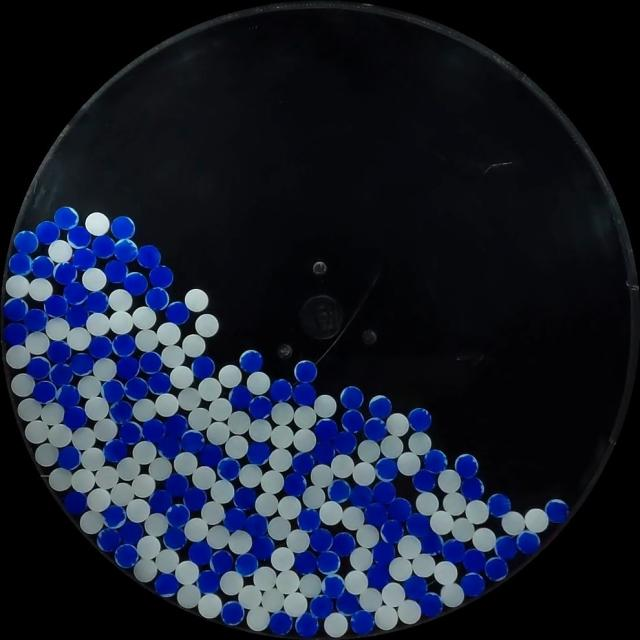pmmma-blanca: (350, 521, 381, 550), (205, 420, 232, 447), (347, 546, 375, 572), (207, 525, 234, 551), (10, 372, 36, 398), (186, 406, 212, 432), (154, 547, 180, 573), (256, 494, 282, 520), (46, 423, 73, 448), (388, 556, 415, 581), (130, 399, 158, 423), (207, 397, 235, 421), (266, 424, 294, 448), (177, 581, 201, 609), (197, 593, 222, 619), (70, 468, 96, 493), (191, 465, 217, 490), (471, 526, 496, 552), (181, 333, 207, 358), (5, 345, 31, 370), (24, 419, 50, 444), (442, 492, 468, 517), (146, 457, 173, 481), (339, 505, 363, 532), (227, 410, 252, 435), (259, 469, 284, 494), (429, 510, 454, 535), (464, 499, 489, 524), (275, 569, 300, 594), (5, 274, 30, 299), (200, 500, 225, 525), (144, 512, 169, 537), (136, 535, 160, 561), (219, 570, 243, 596), (184, 288, 210, 312), (47, 467, 73, 491), (439, 582, 465, 606), (252, 568, 278, 592), (41, 402, 68, 425), (70, 427, 97, 450), (378, 436, 405, 459), (28, 277, 53, 301), (276, 495, 301, 519), (228, 529, 252, 554), (169, 365, 194, 389), (84, 396, 109, 420), (80, 447, 105, 471), (156, 322, 181, 346), (396, 600, 421, 624), (197, 377, 222, 401), (323, 612, 348, 636), (131, 473, 155, 498), (110, 482, 135, 506), (25, 331, 50, 355), (218, 364, 243, 388), (86, 312, 111, 336), (436, 468, 461, 492), (410, 553, 435, 577), (260, 587, 284, 612), (524, 508, 548, 533), (318, 500, 343, 524), (108, 310, 133, 334), (194, 313, 219, 337), (87, 487, 111, 512), (374, 605, 398, 630), (18, 398, 42, 423), (172, 452, 197, 476), (246, 418, 271, 442), (269, 402, 294, 426), (302, 484, 326, 509), (92, 418, 118, 441), (286, 529, 309, 555), (126, 498, 150, 522), (108, 289, 132, 313), (270, 547, 294, 571), (397, 535, 421, 559), (433, 561, 457, 585), (247, 371, 271, 395), (358, 588, 382, 612), (330, 454, 354, 478), (283, 592, 307, 616), (210, 479, 234, 503), (132, 306, 156, 330), (48, 239, 72, 263), (94, 466, 118, 490), (500, 511, 524, 535), (415, 491, 439, 515), (381, 582, 405, 606), (397, 451, 421, 475), (344, 570, 368, 594), (450, 517, 474, 541), (246, 606, 270, 630), (34, 443, 58, 467), (292, 406, 316, 430), (266, 516, 290, 540), (309, 464, 333, 488), (154, 393, 179, 416), (91, 358, 116, 381), (82, 268, 107, 291), (66, 327, 91, 350), (45, 317, 70, 340), (85, 212, 110, 235), (78, 511, 103, 534), (78, 376, 104, 398), (385, 413, 409, 436), (408, 431, 432, 454), (178, 388, 202, 411), (133, 559, 156, 583), (290, 430, 315, 452), (299, 574, 324, 596), (135, 329, 158, 352), (313, 394, 336, 417), (160, 345, 184, 367), (134, 440, 156, 464), (269, 447, 293, 469), (174, 559, 196, 583), (352, 463, 376, 485), (116, 458, 138, 481), (238, 586, 261, 608), (357, 439, 379, 462), (186, 518, 207, 542), (225, 437, 248, 458), (240, 463, 260, 487)
